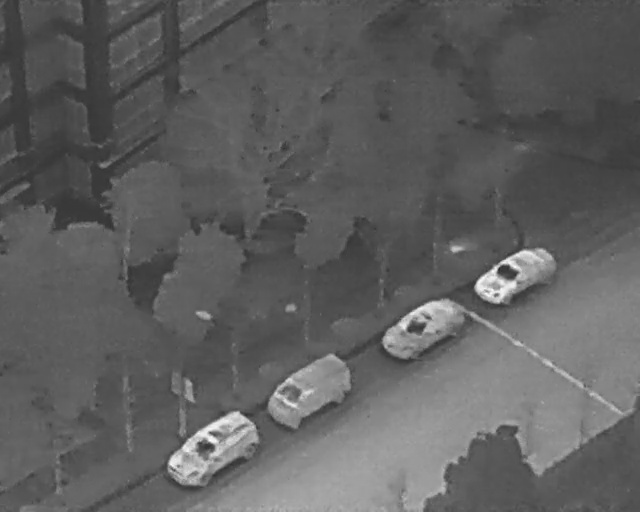Car: (154, 403, 268, 503), (257, 343, 360, 437), (376, 286, 473, 368), (471, 236, 563, 314)
